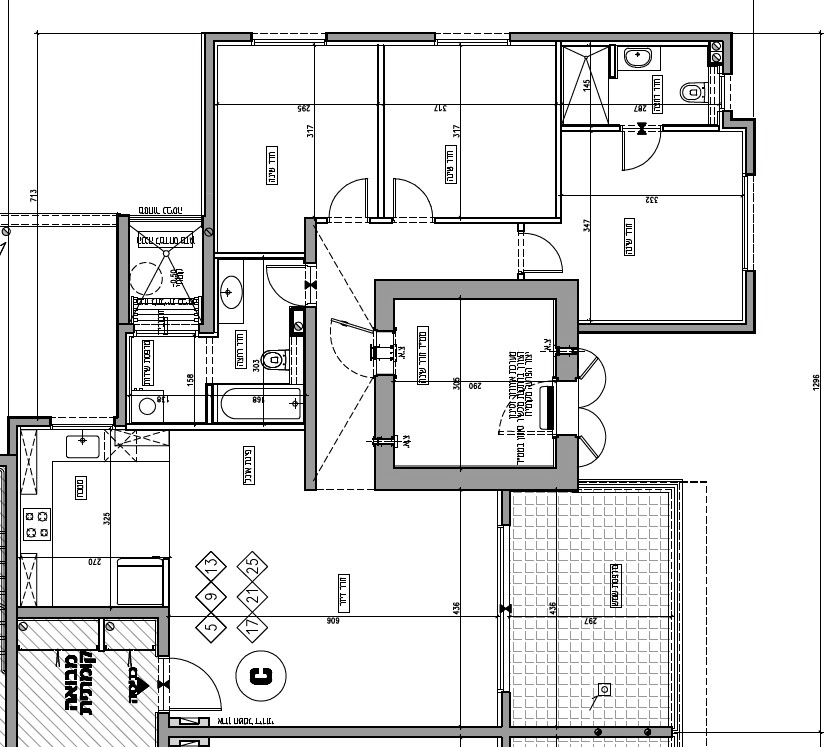door: (178, 652, 223, 715), (615, 137, 669, 175), (389, 172, 433, 213), (533, 228, 569, 275), (332, 173, 371, 213), (266, 264, 294, 309)
wall: (384, 470, 571, 487), (379, 283, 573, 296), (163, 728, 457, 735), (9, 460, 14, 725), (307, 311, 314, 473), (206, 35, 212, 209), (120, 219, 127, 320), (22, 610, 161, 615), (205, 241, 212, 329), (379, 381, 390, 433), (580, 326, 750, 329), (119, 327, 124, 414)
window: (488, 523, 515, 693), (737, 174, 765, 272), (433, 28, 510, 53), (252, 29, 327, 49), (51, 413, 116, 430), (715, 73, 736, 112)
